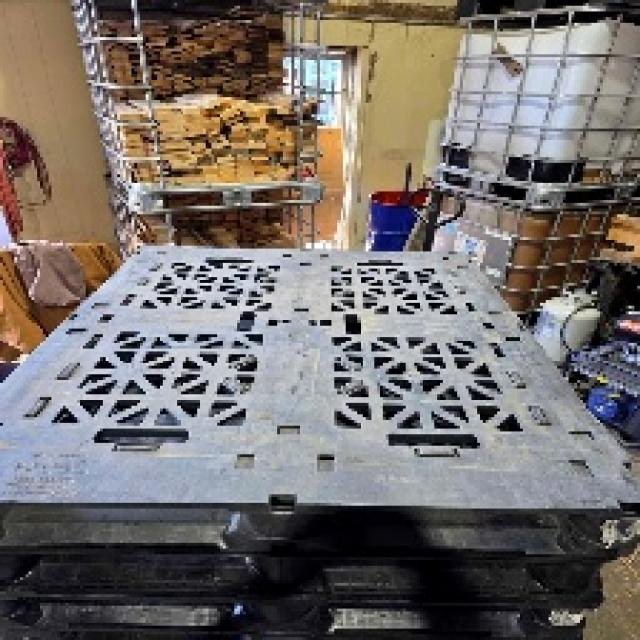igps: (0, 241, 640, 580), (0, 532, 629, 614), (0, 583, 611, 640)
